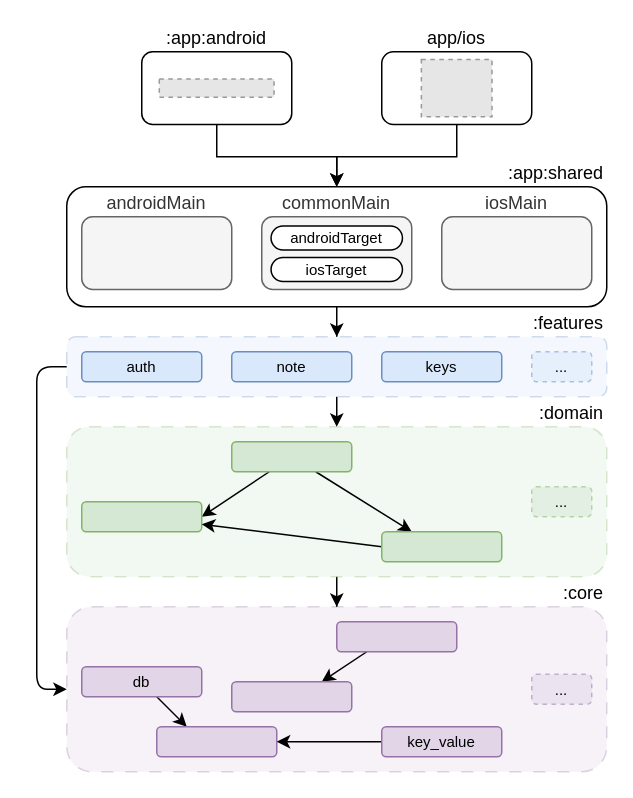
Image size: 633x798. Some labels were removed from this diagram. Grey dashed boxes stand in for pictures. The centre of each missing label's shape, as x and y in pixels:
base: [216,741]
crypto: [441,546]
notes: [291,456]
presentation: [396,636]
ui: [291,696]
user_state: [141,516]
